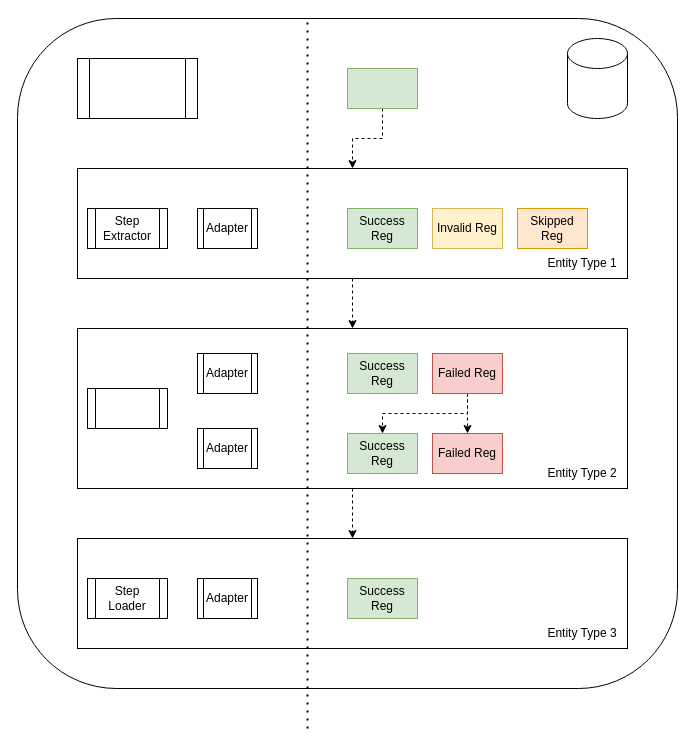
The diagram is 695 pixels wide and 748 high, and some of its shapes have lost their labels. The centre of each missing label's shape, as x and y in pixels:
"Flow" goes at point (137, 88).
"FlowConfig" goes at point (382, 88).
"Regs" goes at point (597, 78).
"Step Transformer" goes at point (127, 408).
